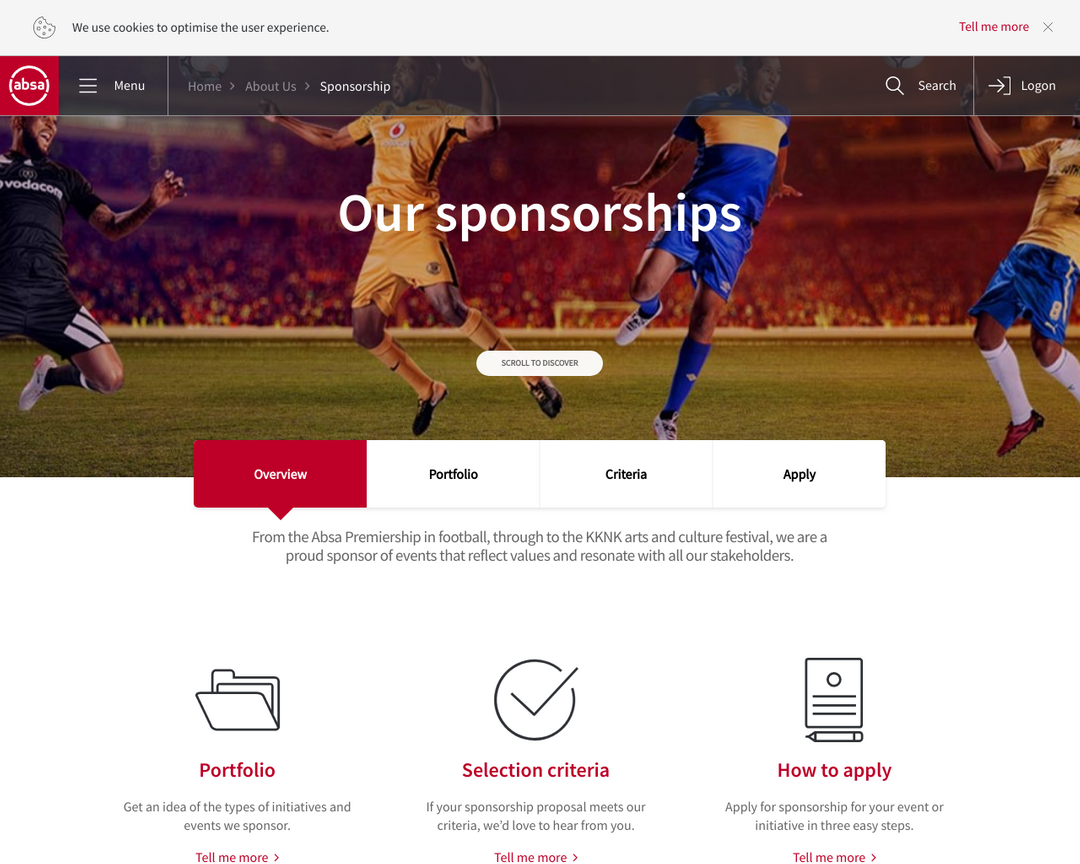ABSA: (4, 65, 53, 111)
